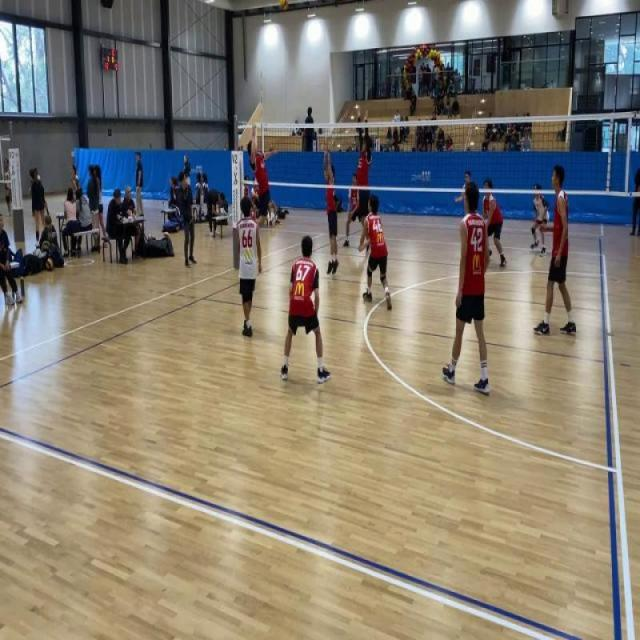volleyball: (46, 257, 54, 272), (279, 0, 288, 10), (163, 231, 169, 238), (148, 233, 152, 240)
